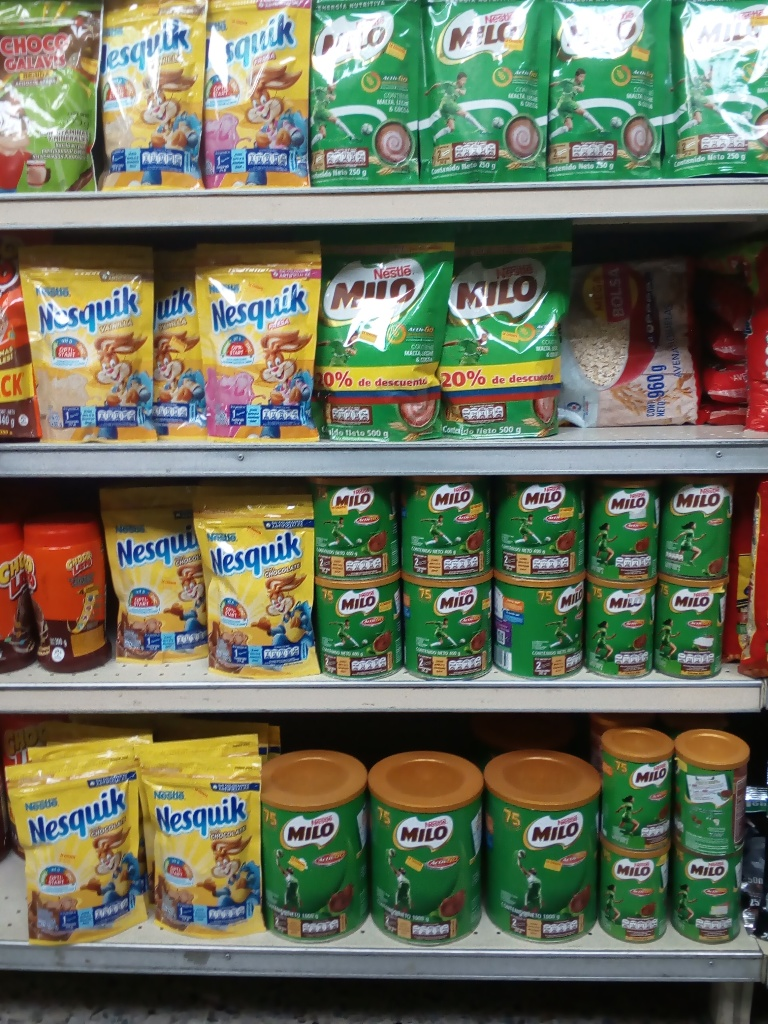COL0170103TRR30000: (22, 511, 109, 674)
COL0170203DYP25000: (312, 0, 421, 184)
COL0170203DYP50000: (314, 239, 458, 445)
COL0170203LAT20000: (603, 722, 677, 860)
COL0170203LAT40000: (309, 474, 400, 584)
COL0170303DYP20000: (100, 485, 219, 665)
COL0170305DYP20000: (206, 0, 311, 189)
COL0170306DYP20000: (18, 246, 160, 444)
